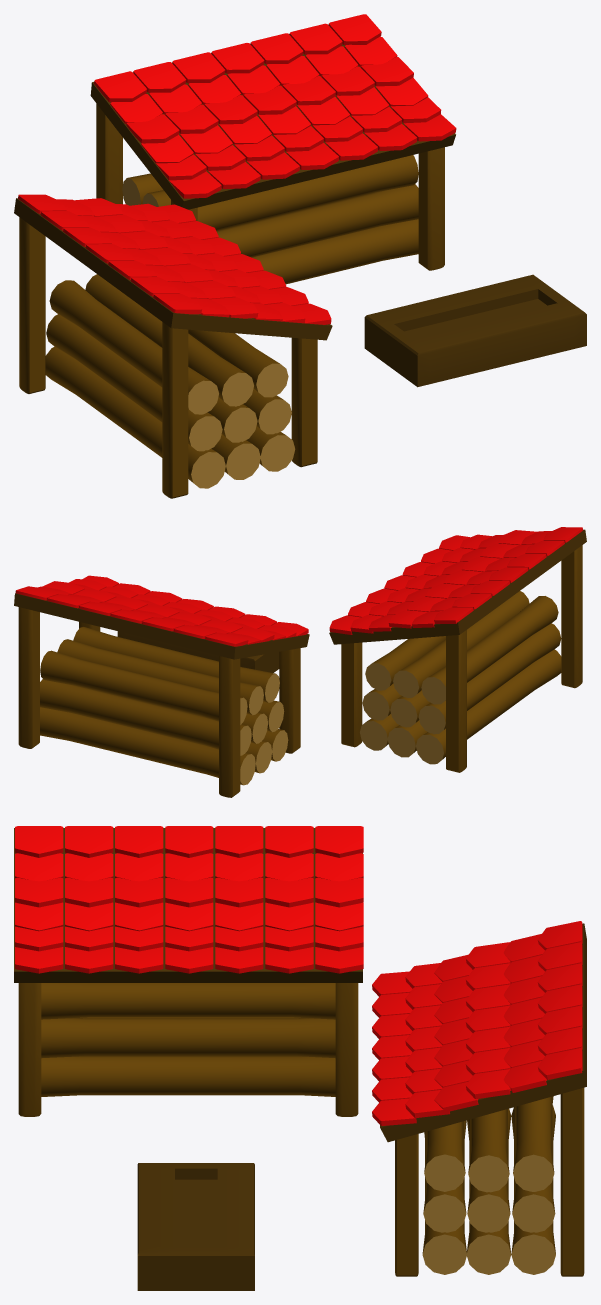
File: lumberMill.glb
3 renders of one model, top to bottom at view 1: azimuth 30°, elevation 25°; view 2: azimuth 150°, elevation 25°; view 3: azimuth 270°, elevation 25°, orthographic. The views are drawn at different scales.
Parts seen in each view (by area): view 1: LumberMill_RedTeam; view 2: LumberMill_RedTeam; view 3: LumberMill_RedTeam.
Boxes of the visible parts, x1,y1,x2,y2 form: LumberMill_RedTeam: (14,14,586,498); LumberMill_RedTeam: (14,527,586,797); LumberMill_RedTeam: (14,826,586,1290).
Size of the model in its own units: 25.89 by 10.06 by 24.56.
